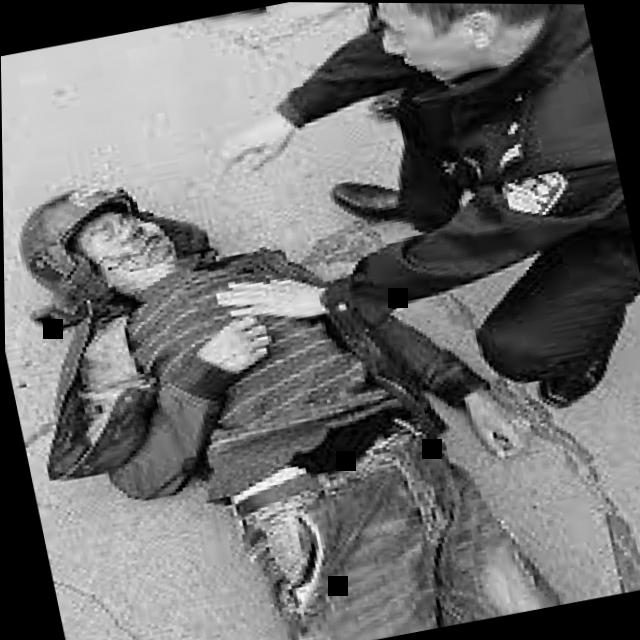Fall-Detected: (7, 85, 606, 640)
